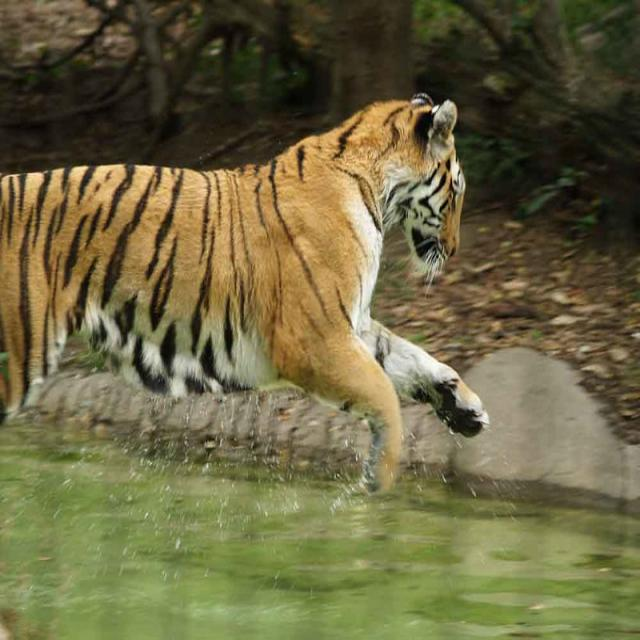Tiger: (5, 80, 501, 507)
